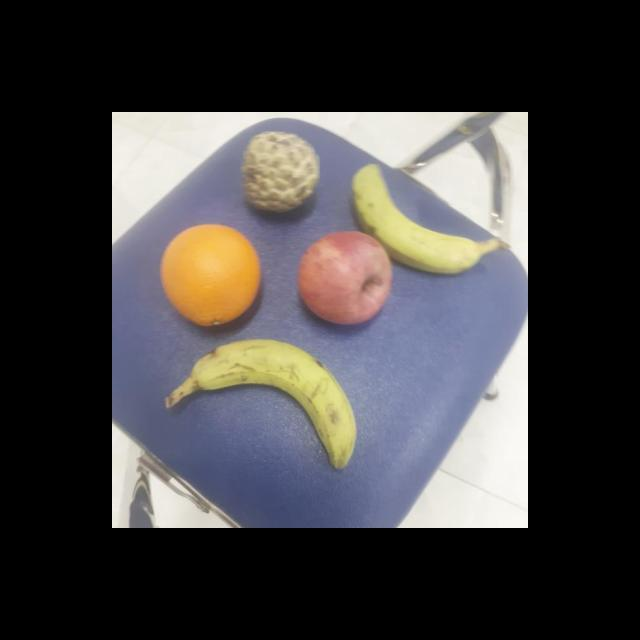Sakya fruit: (240, 128, 324, 214)
apple: (294, 228, 396, 327)
banana: (186, 336, 364, 468), (347, 157, 481, 276)
orange: (157, 222, 263, 328)
